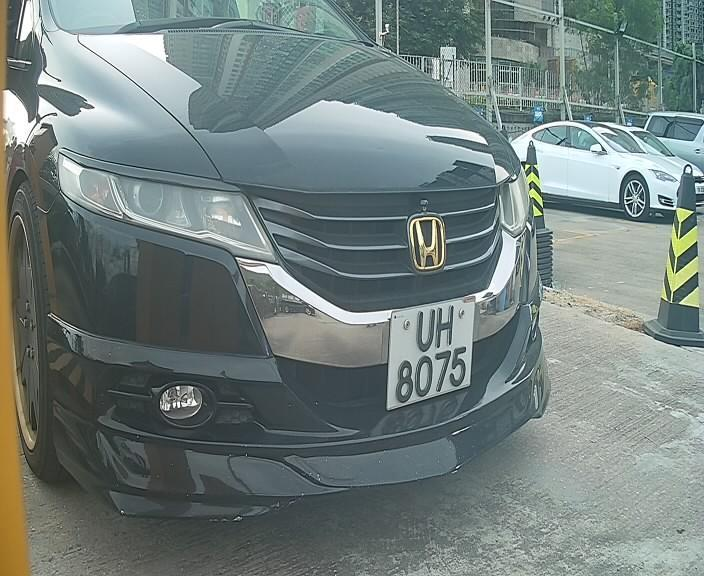License Plate: (381, 283, 481, 412)
